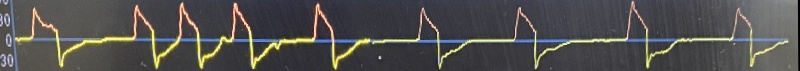normal_flow: (0, 0, 790, 71)
